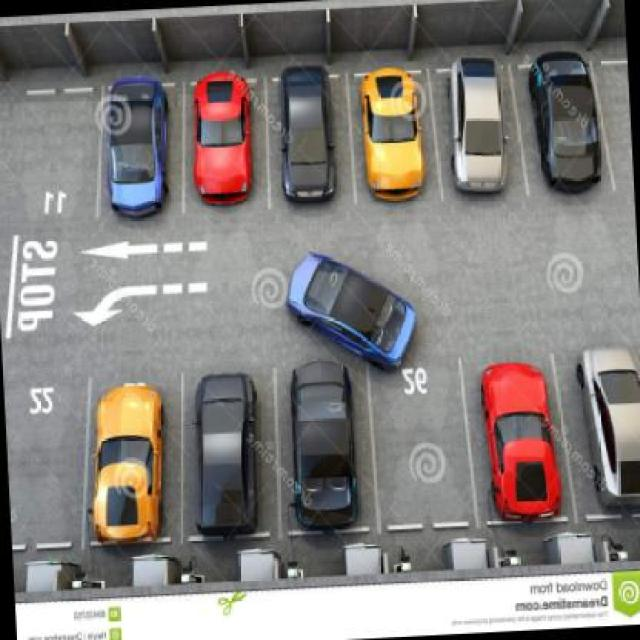Car: (74, 358, 180, 552), (284, 237, 441, 363), (282, 347, 375, 544), (475, 352, 570, 535), (181, 374, 273, 551), (570, 321, 640, 521), (95, 66, 175, 226), (521, 47, 601, 207), (443, 47, 517, 218), (357, 63, 437, 220), (189, 61, 260, 219), (273, 55, 344, 210)
Empty: (378, 369, 466, 536), (4, 383, 92, 546), (1, 91, 93, 244)
